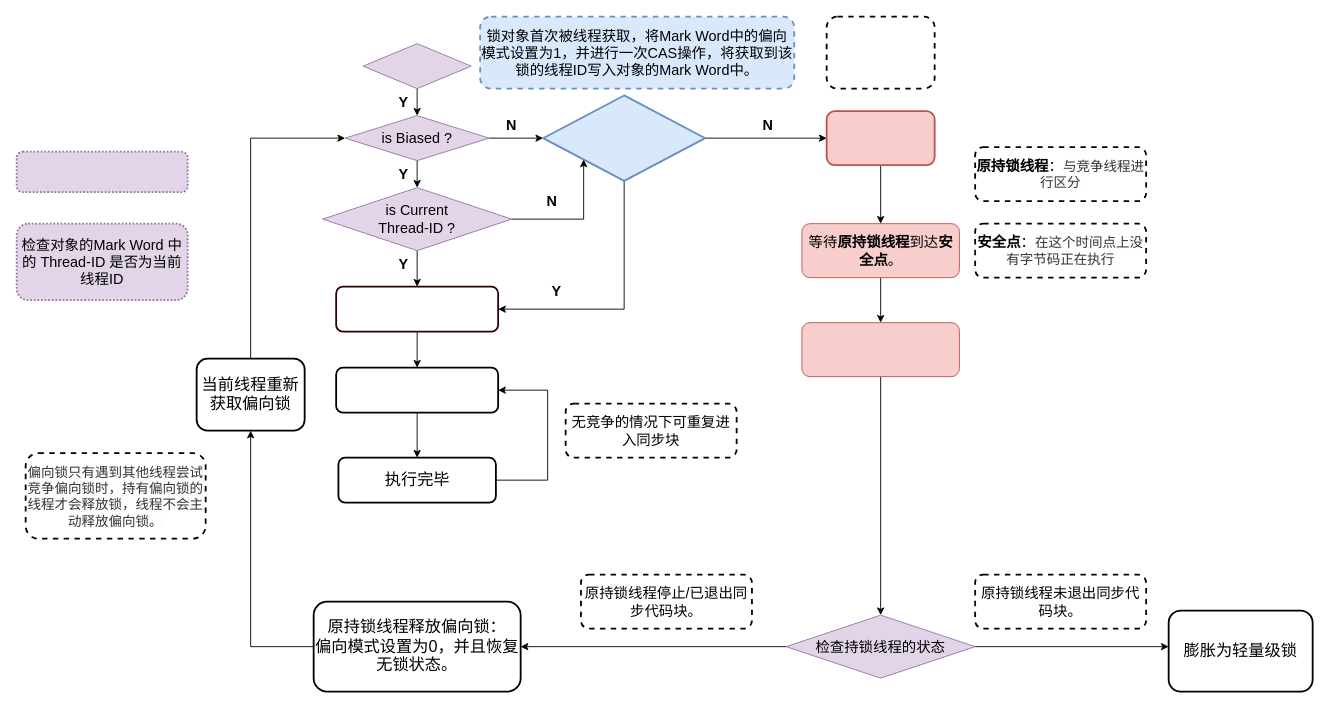
This 1328x707 diagram has some shape labels left out. The shapes that lost their labels are listed below. From the top down, each one's centre as x and y in pixels, then its label:
(x=416, y=66): is 01 ?
(x=880, y=52): CAS失败说明有竞争线程
(x=624, y=137): CAS 替换Thread-ID
(x=880, y=138): 执行偏向锁撤销
(x=101, y=171): 是否已处于偏向状态
(x=417, y=308): 持有偏向锁
(x=880, y=349): 暂停 原持锁线程
(x=417, y=389): 执行同步代码块
